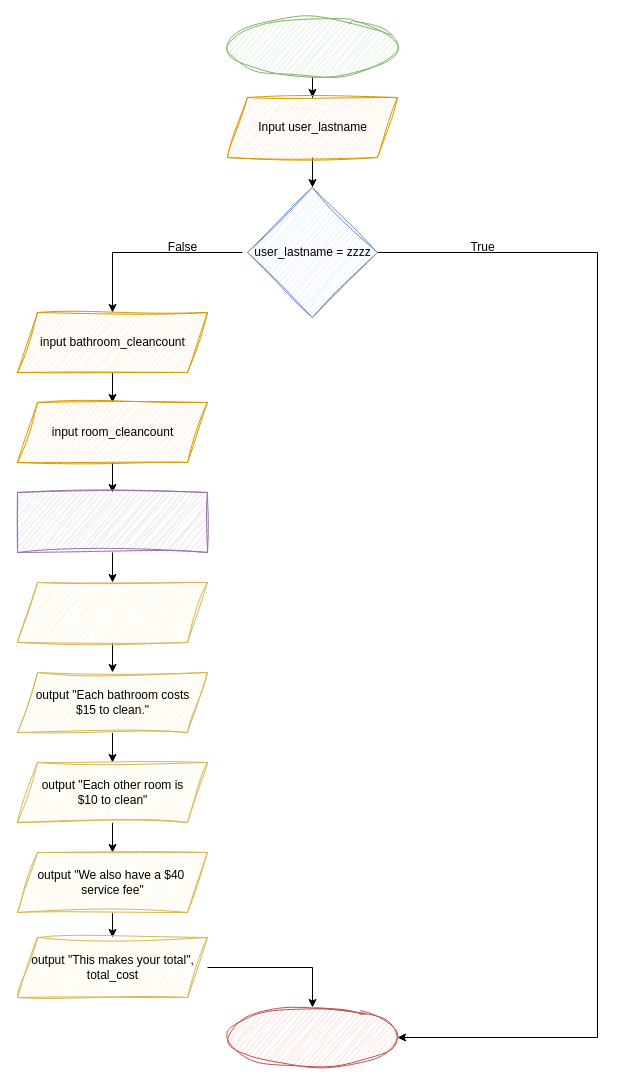
Some shapes in this 623 by 1085 pixel diagram are drawn without their labels. The box of each missing label's shape, as (x1, y1, x2, y2) in pixels:
End: (226, 1006, 398, 1068)
output "Customer last name is", user_lastname: (16, 582, 208, 642)
Start: (226, 16, 398, 78)
total_cost = 40 + bathroom_cleancount + room_cleancount: (16, 492, 208, 552)
